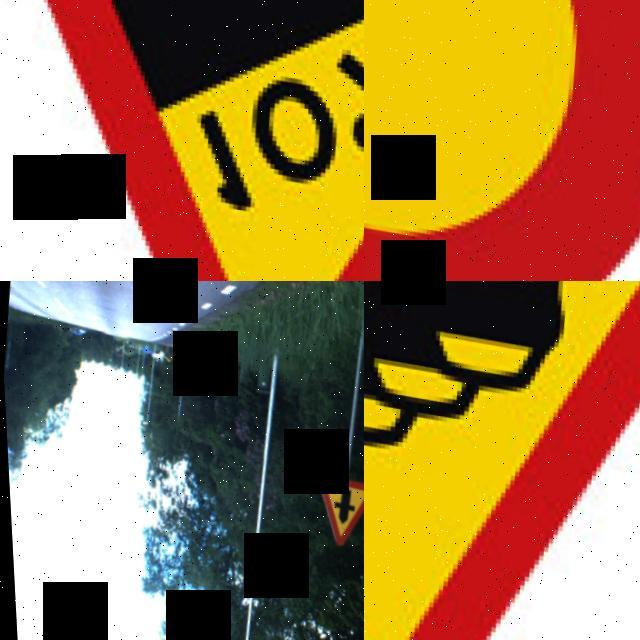147: (364, 281, 640, 640)
166: (299, 461, 364, 553)
40: (364, 0, 640, 281)
Steep downhill: (0, 0, 364, 281)
